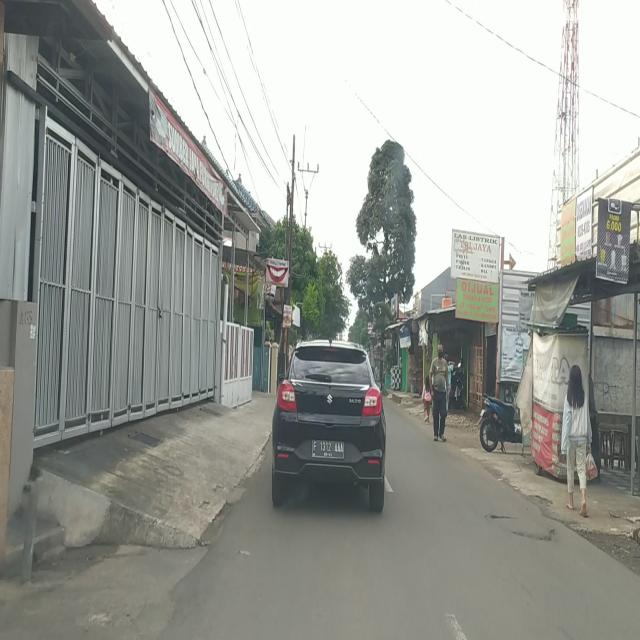Sewer Cover: (508, 526, 558, 544), (486, 510, 519, 522)
